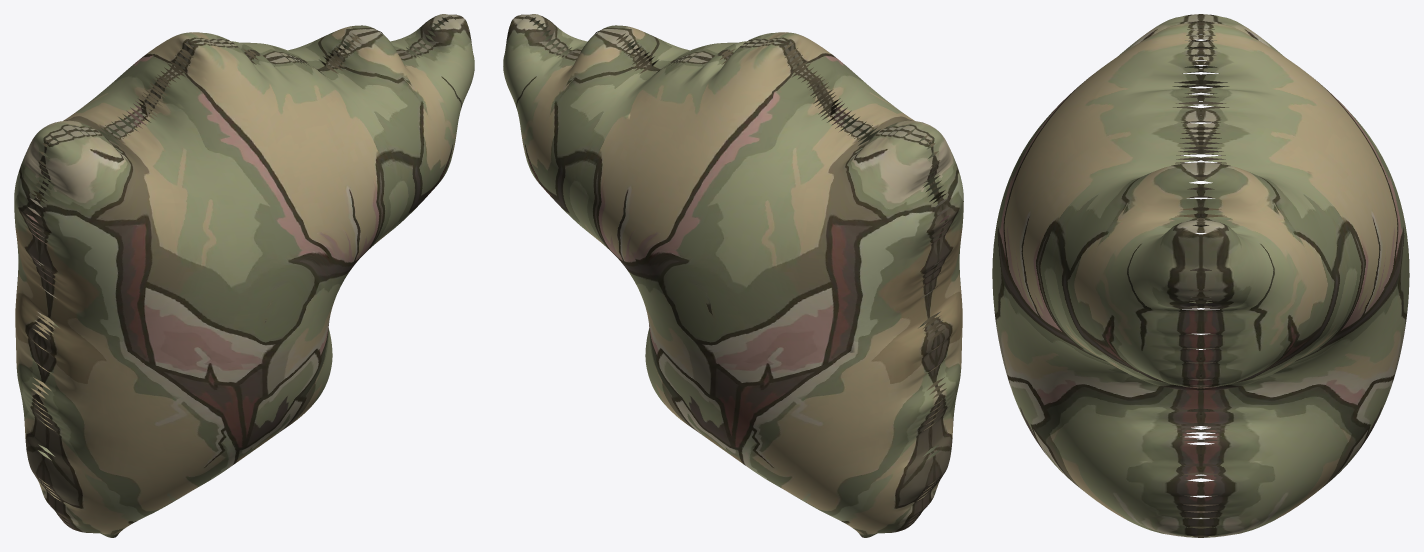
File: stone_cliff.glb
3 views of the same model, side by side, from view 1: azimuth 30°, elevation 25°; view 2: azimuth 150°, elevation 25°; view 3: azimuth 270°, elevation 25° (orthographic). The views are drawn at different scales.
Parts seen in each view (by area): view 1: stone_cliff; view 2: stone_cliff; view 3: stone_cliff.
Boxes of the visible parts, bbox=[...] form: stone_cliff: bbox=[14, 14, 474, 537]; stone_cliff: bbox=[503, 14, 963, 537]; stone_cliff: bbox=[992, 14, 1409, 537].
Bounding box in the file's own units: 0.9887 × 0.9943 × 0.6728.
Materials: 1 (1 with a texture image).
